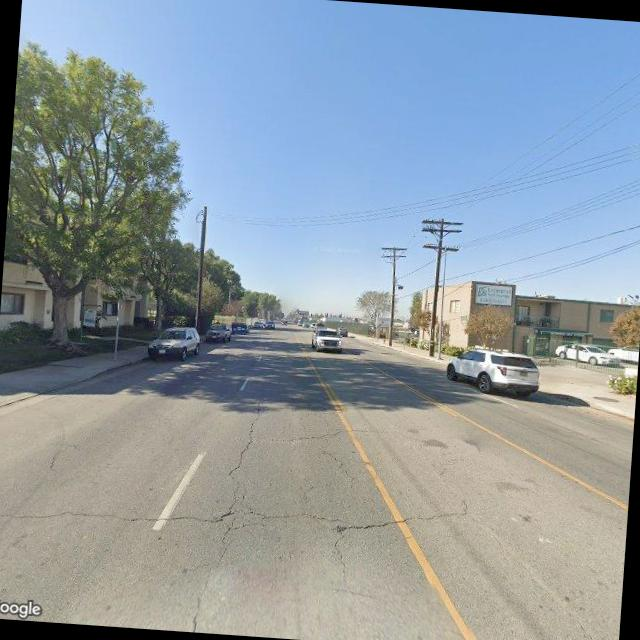crack: (0, 464, 503, 555), (187, 371, 275, 624), (238, 413, 402, 451), (314, 444, 354, 481)
